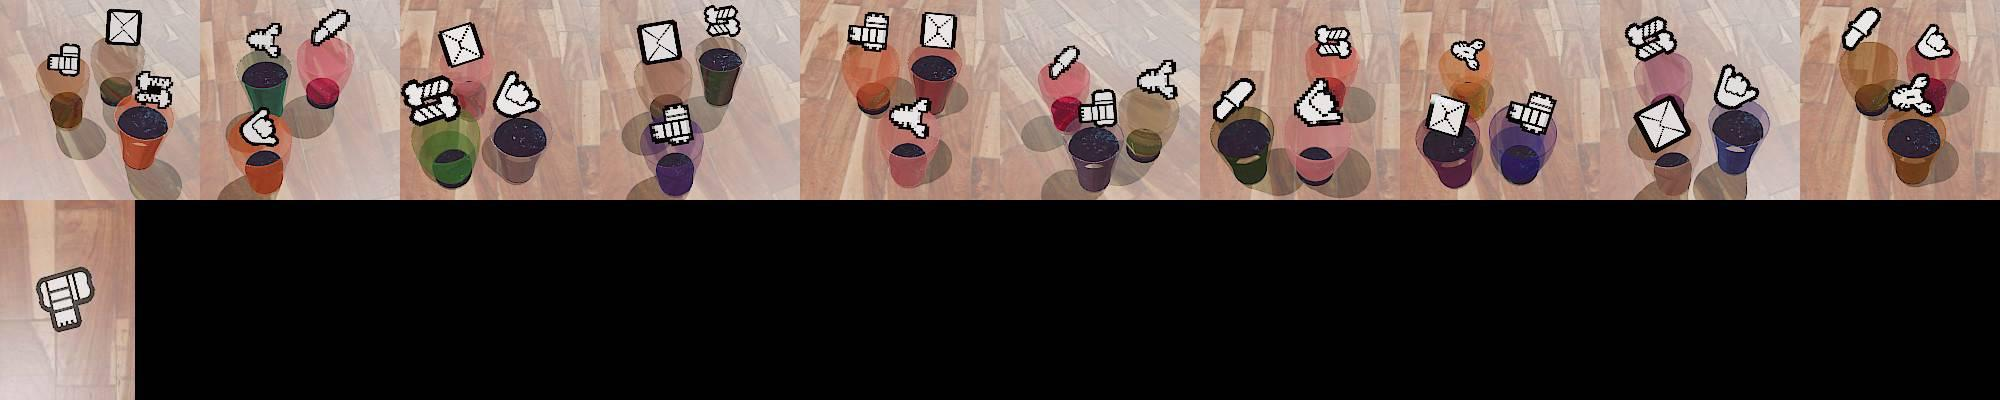icon: (34, 265, 97, 331), (1633, 94, 1693, 153), (402, 74, 462, 124), (1293, 76, 1346, 126), (1622, 17, 1676, 64), (1505, 90, 1557, 136), (492, 70, 542, 117), (437, 20, 485, 68), (1713, 64, 1761, 110), (1425, 90, 1469, 139), (1212, 75, 1256, 124), (636, 20, 682, 66), (648, 101, 695, 145), (1889, 73, 1936, 113), (848, 10, 892, 54), (239, 106, 282, 149), (1135, 57, 1180, 99), (888, 98, 930, 139), (1843, 6, 1881, 51), (1077, 87, 1117, 127), (134, 70, 175, 110), (245, 22, 283, 60), (1314, 23, 1352, 60), (311, 9, 349, 46), (921, 11, 957, 51), (106, 8, 142, 46), (1915, 23, 1953, 59), (47, 42, 82, 78), (703, 4, 740, 37), (1450, 38, 1486, 71), (1047, 45, 1080, 80)
